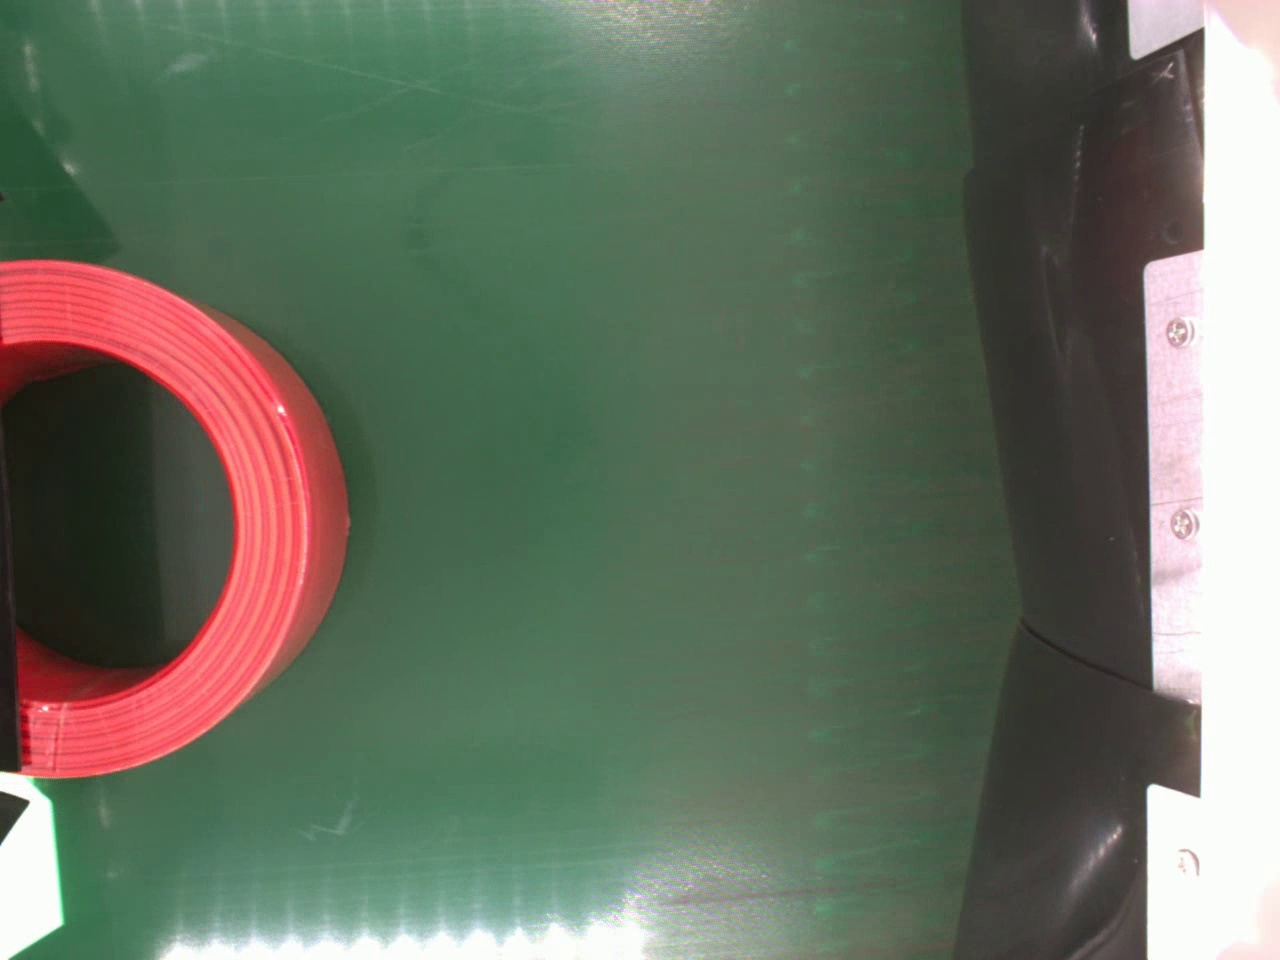red: (0, 255, 350, 781)
